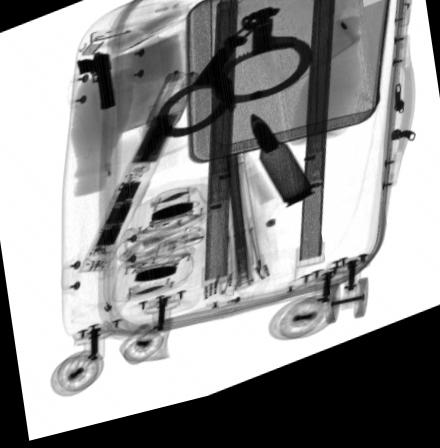Baton: (72, 79, 200, 277)
Bullet: (247, 125, 315, 225)
Gun: (74, 58, 115, 116)
HandCuffs: (157, 19, 314, 147)
